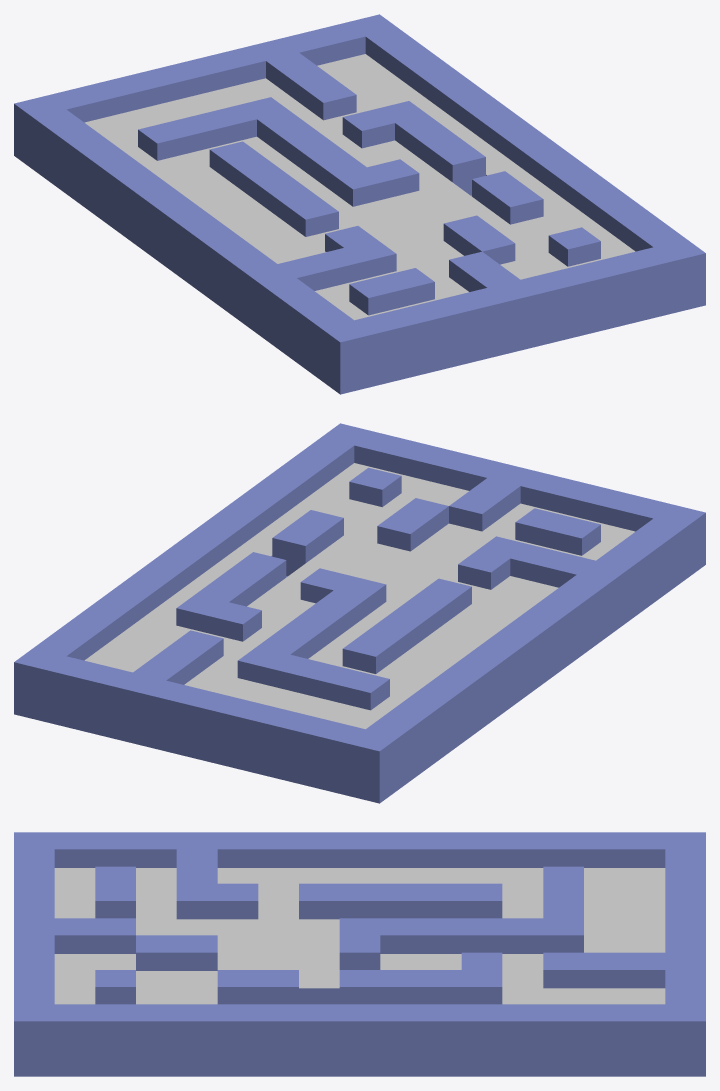
The model's file is 100_platform.fbx.
3 renders of one model, top to bottom at view 1: azimuth 30°, elevation 25°; view 2: azimuth 150°, elevation 25°; view 3: azimuth 270°, elevation 25°, orthographic. The views are drawn at different scales.
Visible parts, largest first — view 1: Grid; view 2: Grid; view 3: Grid.
Boxes of the visible parts, x1,y1,x2,y2 form: Grid: (14,14,705,394); Grid: (14,423,705,803); Grid: (14,832,705,1076).
Size of the model in its own units: 1100 by 150 by 1700.
